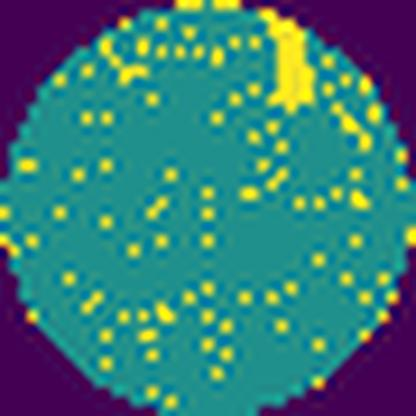Edge-Loc: (256, 9, 314, 114)
